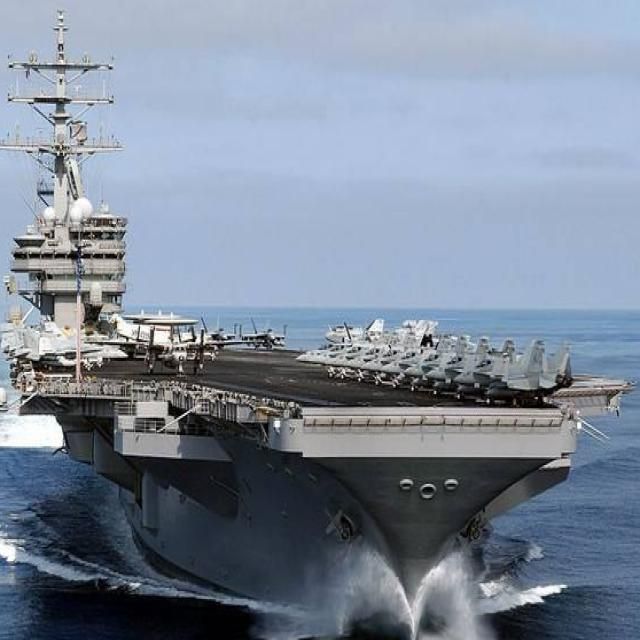navalvessels: (21, 31, 598, 632)
